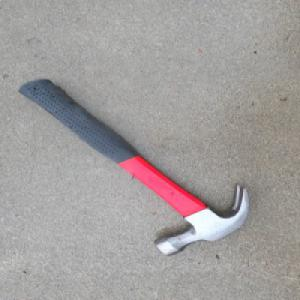Hammer: (17, 78, 253, 260)
